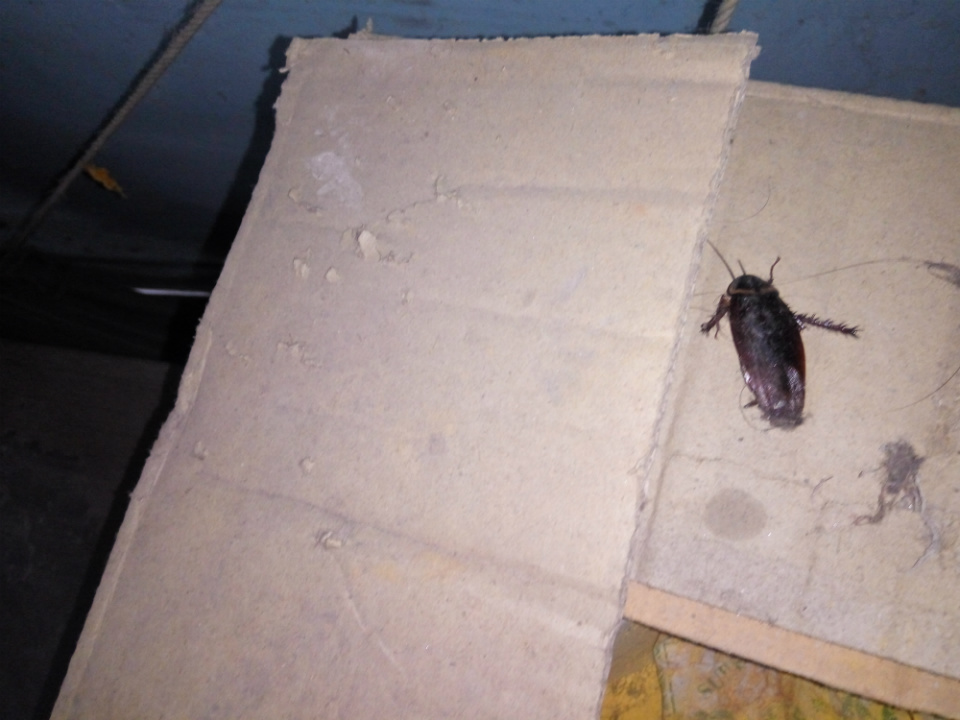cockroach: (656, 218, 880, 440)
